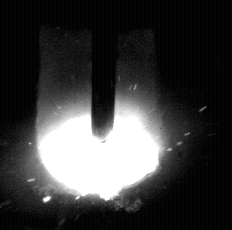arame: (92, 0, 116, 138)
poca: (36, 0, 169, 230)
